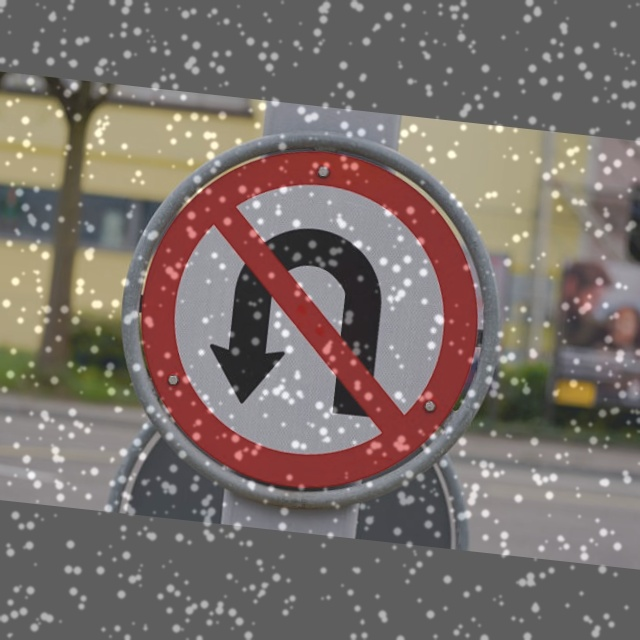U_Turn_Prohibited: (108, 119, 518, 527)
